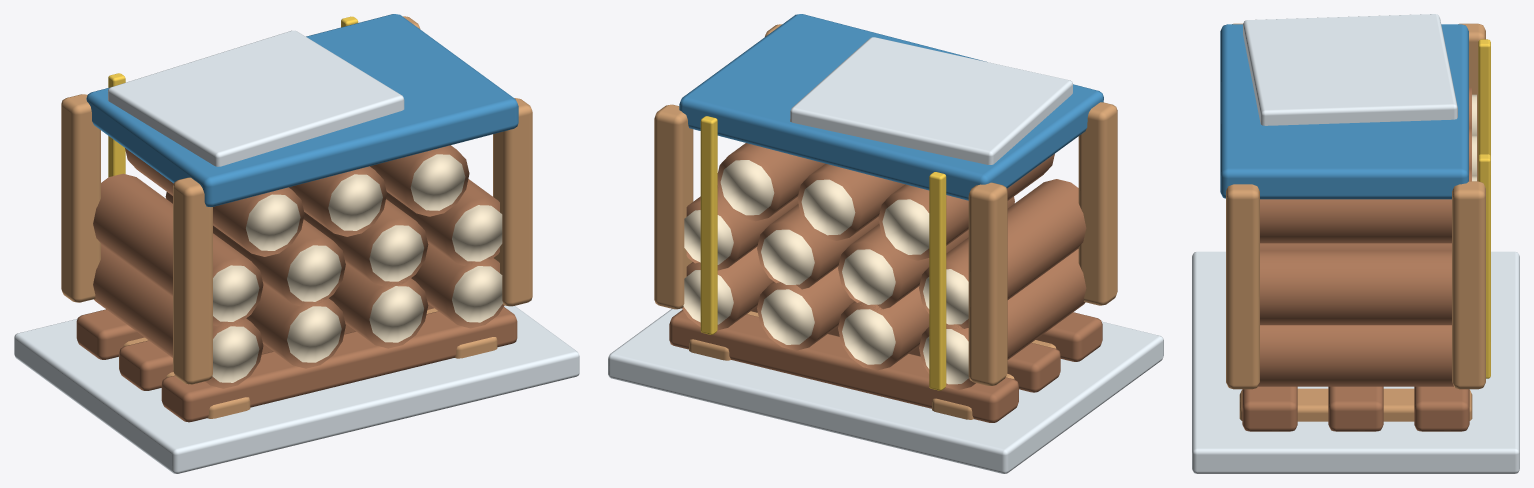
The model's file is wood_stack.glb.
3 views of the same model, side by side, from view 1: azimuth 30°, elevation 25°; view 2: azimuth 150°, elevation 25°; view 3: azimuth 270°, elevation 25° (orthographic). The views are drawn at different scales.
Visible parts, largest first — view 1: wood_stack; view 2: wood_stack; view 3: wood_stack.
Part boxes in pixels (x1=…): wood_stack: x1=14, y1=14, x2=579, y2=473; wood_stack: x1=608, y1=14, x2=1163, y2=473; wood_stack: x1=1192, y1=14, x2=1519, y2=473.
Bounding box in the file's own units: 1.68 × 1.15 × 1.16.
